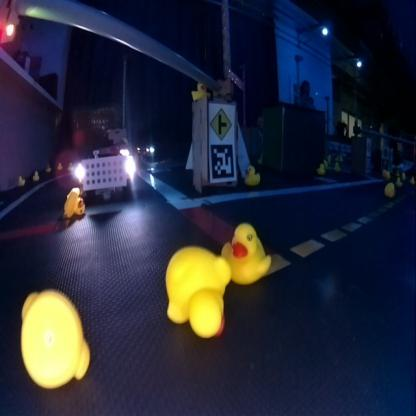Duckie: (21, 290, 88, 386), (165, 247, 227, 333), (222, 224, 270, 282), (65, 190, 84, 216), (244, 164, 259, 183), (191, 82, 206, 100)
Duckiebot: (68, 148, 136, 200)
Intersection sign: (209, 106, 232, 138)
QR code: (210, 143, 236, 179)
Traffic light: (0, 4, 20, 44)
